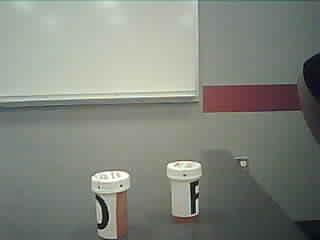Bottle D: (86, 167, 135, 240)
Bottle F: (162, 158, 207, 228)
